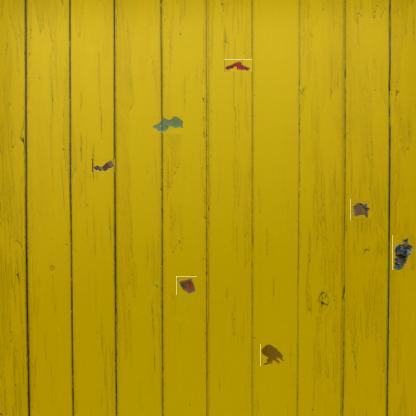dirty: (392, 235, 415, 270), (350, 199, 372, 220), (176, 275, 197, 296), (224, 59, 252, 72), (91, 158, 115, 172)
liquid: (152, 116, 184, 134), (260, 344, 285, 366)
